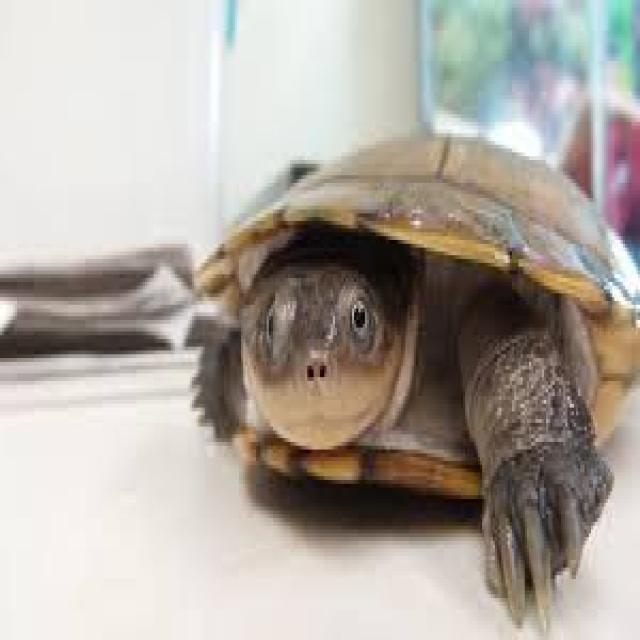turtle: (165, 141, 490, 526)
